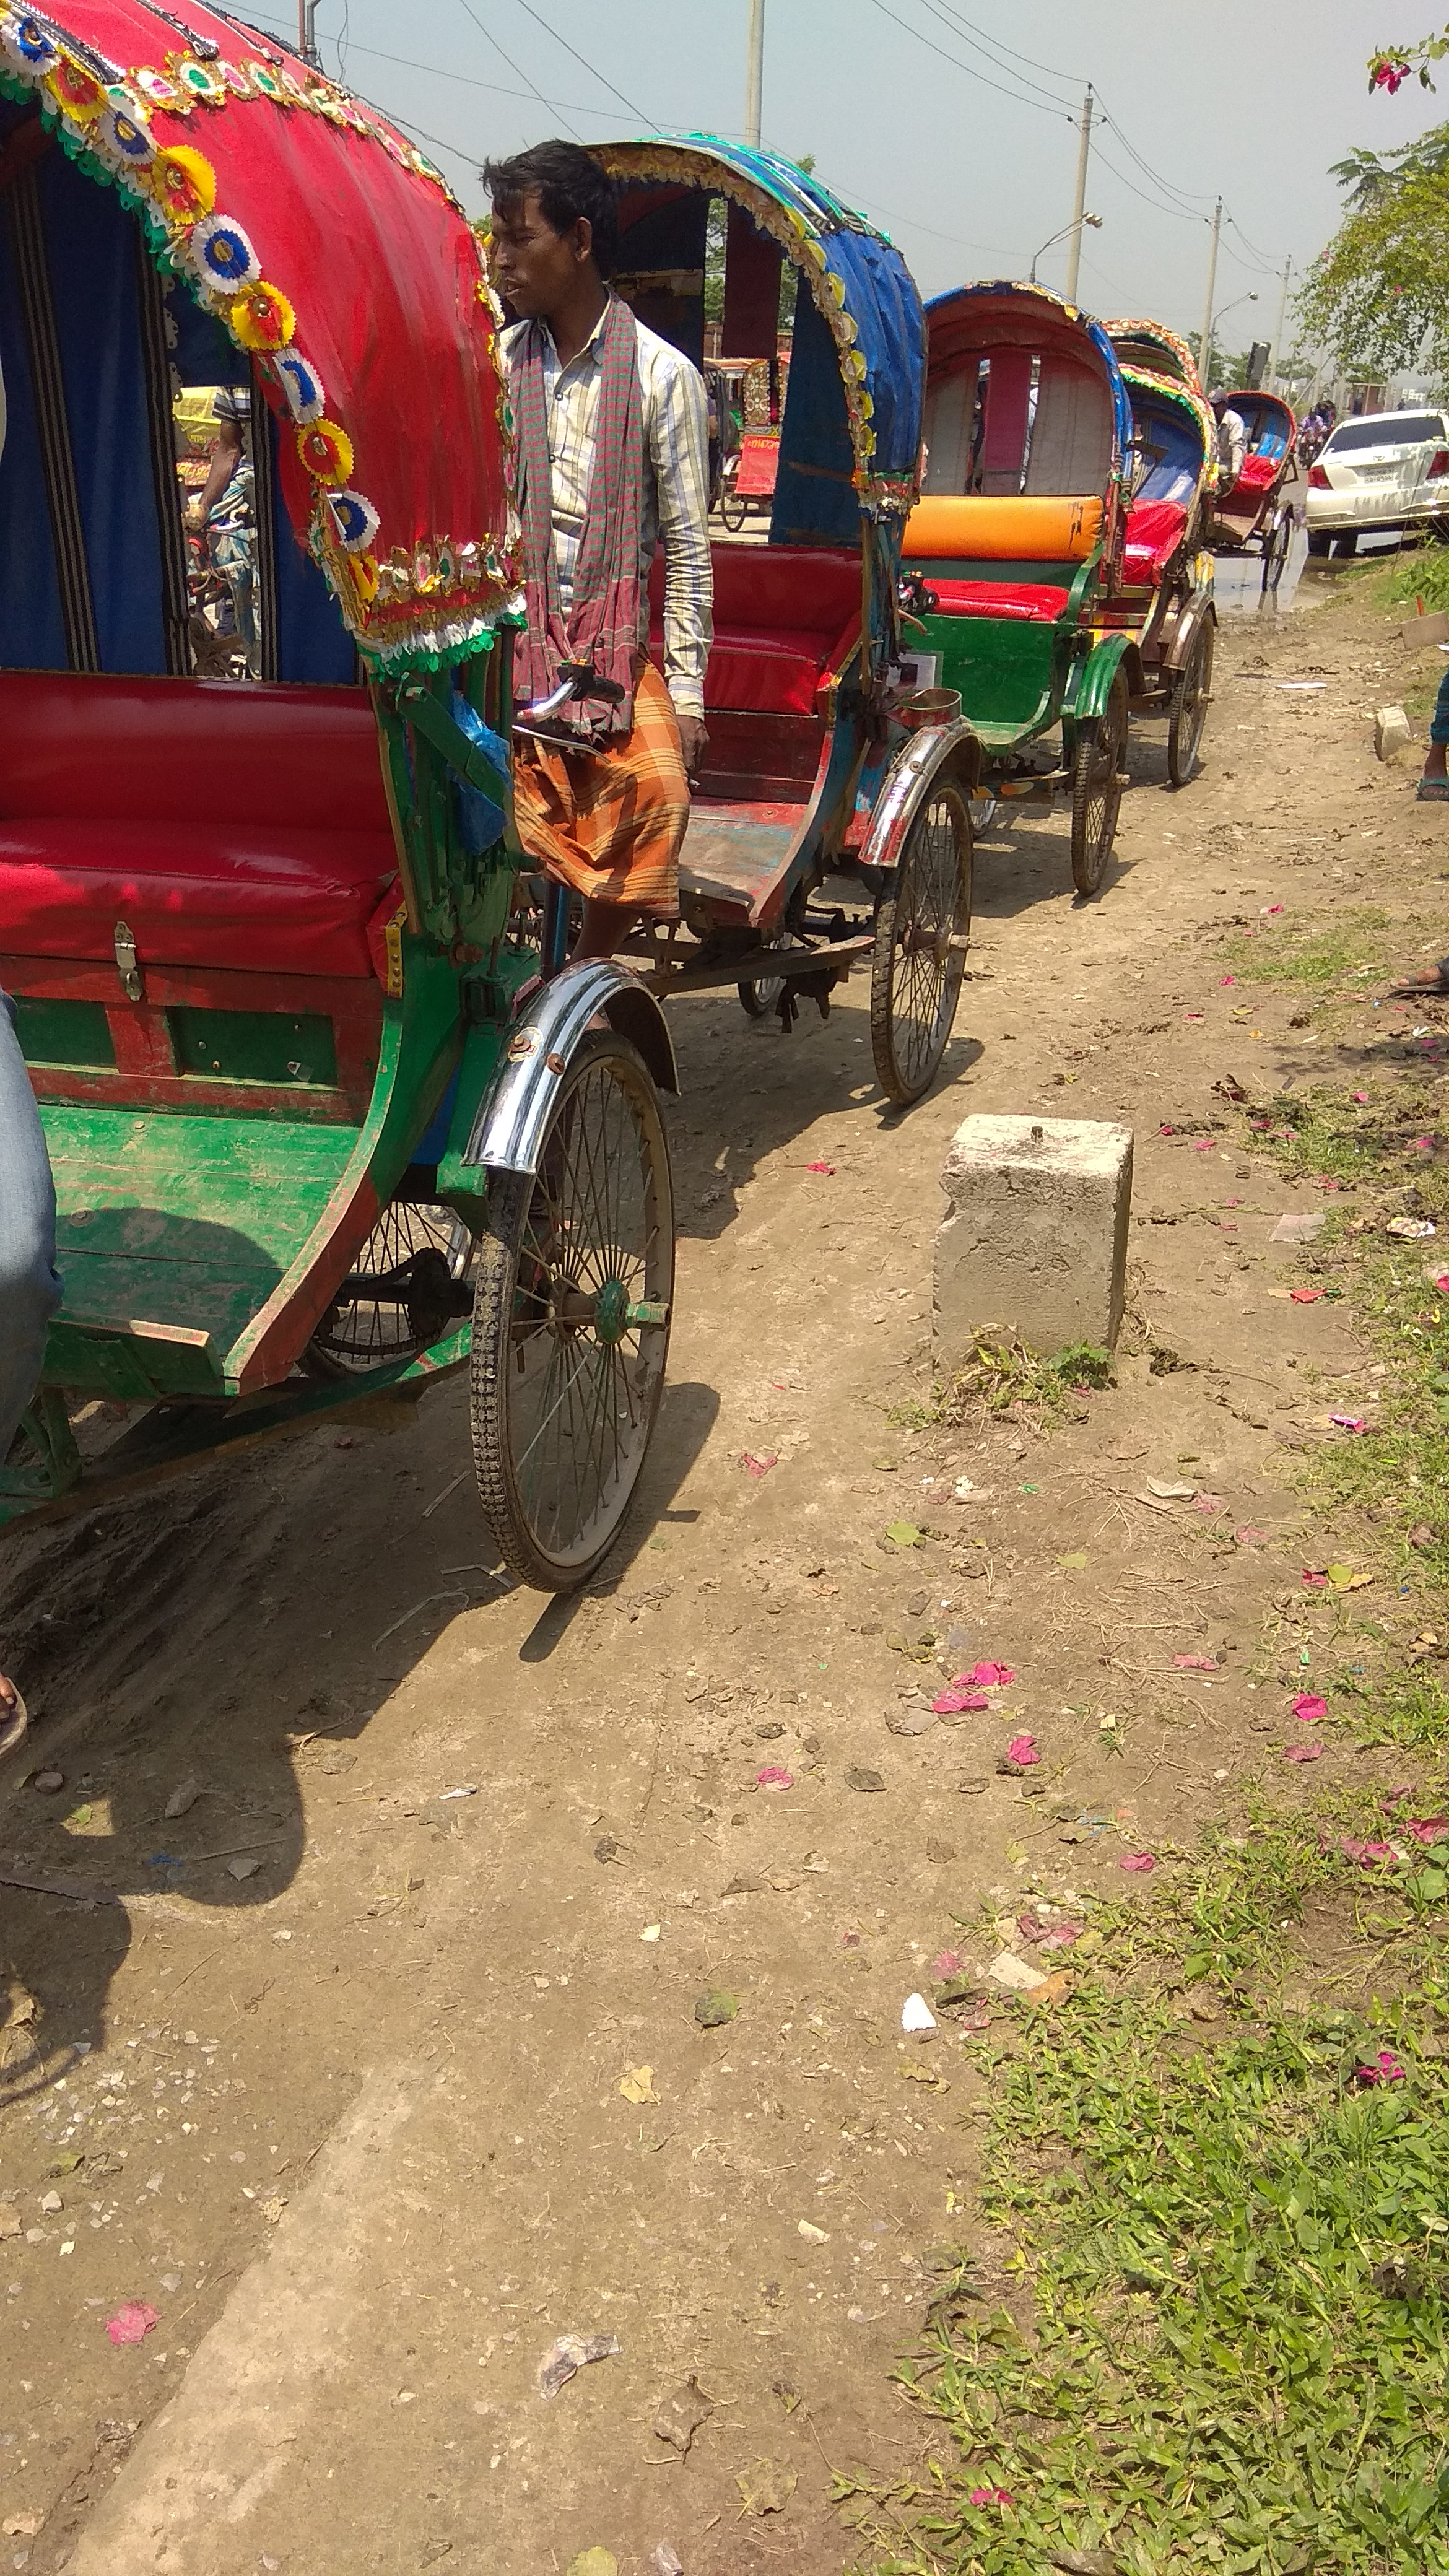Rickshaw: (9, 7, 669, 1721), (451, 92, 980, 1115), (902, 235, 1136, 865), (1090, 333, 1226, 773), (1210, 364, 1307, 594)
